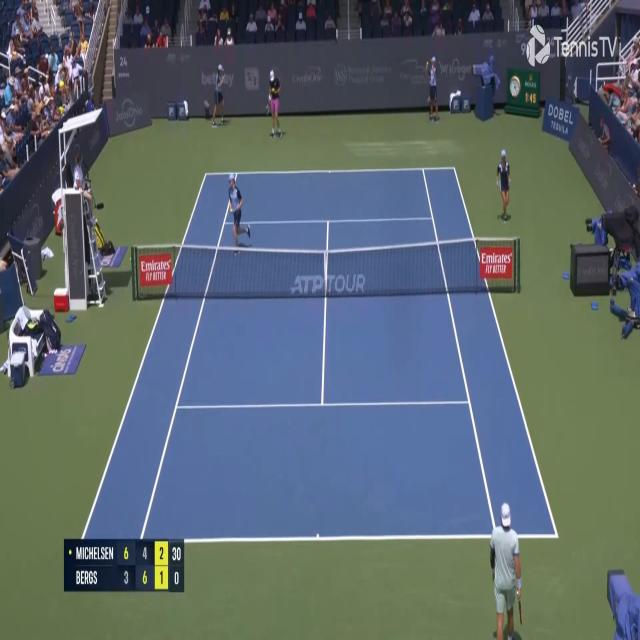tennis-player: (488, 500, 524, 640), (265, 67, 284, 140)
